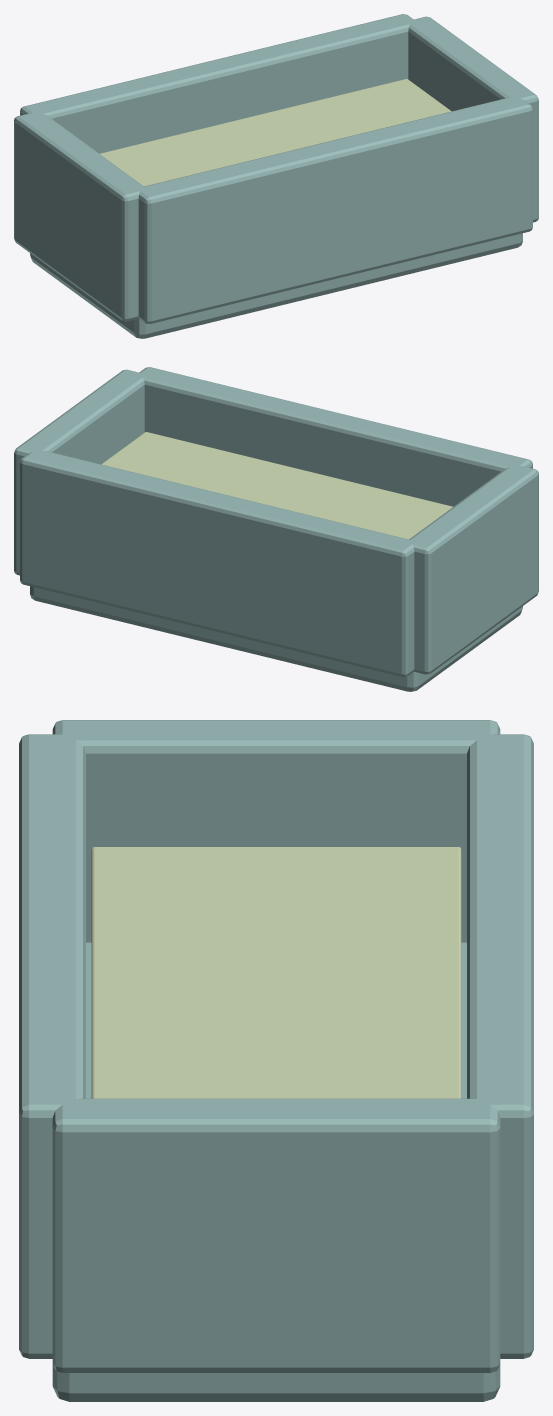
Rendered from trough.glb.
3 views of the same model, one above another, from view 1: azimuth 30°, elevation 25°; view 2: azimuth 150°, elevation 25°; view 3: azimuth 270°, elevation 25° (orthographic). The views are drawn at different scales.
Parts seen in each view (by area): view 1: Side, Side.001, End, Water, End.001, Base; view 2: Side.001, Side, End, Water, End.001, Base; view 3: End.001, Water, End, Side.001, Side, Base.
Boxes of the visible parts, box(x1,y1,x2,y2) form: Side: box(138, 97, 532, 323); Side.001: box(20, 14, 415, 153); End: box(14, 112, 145, 321); Water: box(100, 79, 451, 186); End.001: box(407, 16, 538, 222); Base: box(30, 233, 522, 338); Side.001: box(20, 450, 414, 676); Side: box(137, 367, 532, 506); End: box(407, 465, 538, 674); Water: box(101, 432, 452, 539); End.001: box(14, 369, 144, 575); Base: box(30, 586, 522, 691); End.001: box(52, 1098, 500, 1372); Water: box(91, 847, 461, 1098); End: box(52, 720, 500, 942); Side.001: box(467, 734, 533, 1358); Side: box(19, 734, 85, 1358); Base: box(52, 942, 500, 1401).
Size of the model in its own units: 1.72 by 0.59 by 0.92.
